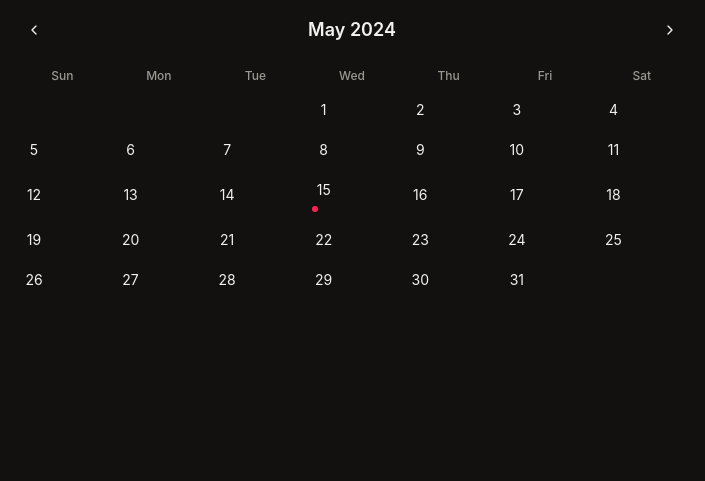
MonthCalendar › displays day drill-down when a day is selected
Click the button "15": (352, 195) 306,172 -> 398,218
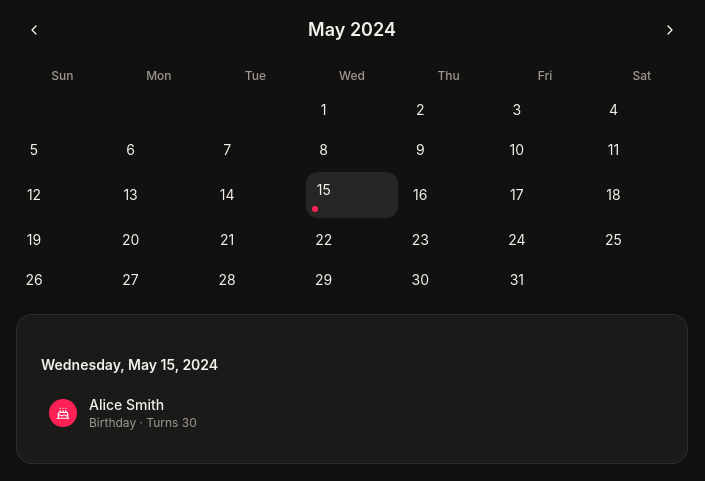
Now the text "Alice Smith" is shown, box 89,396 -> 164,413
